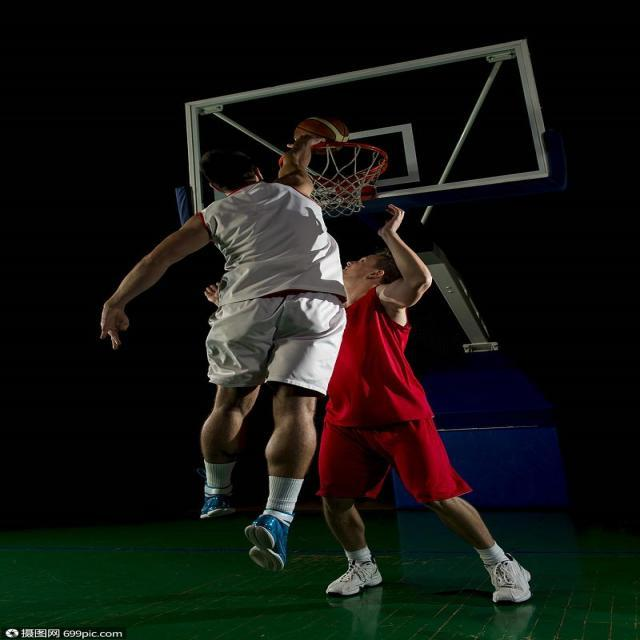rim: (295, 114, 352, 152)
